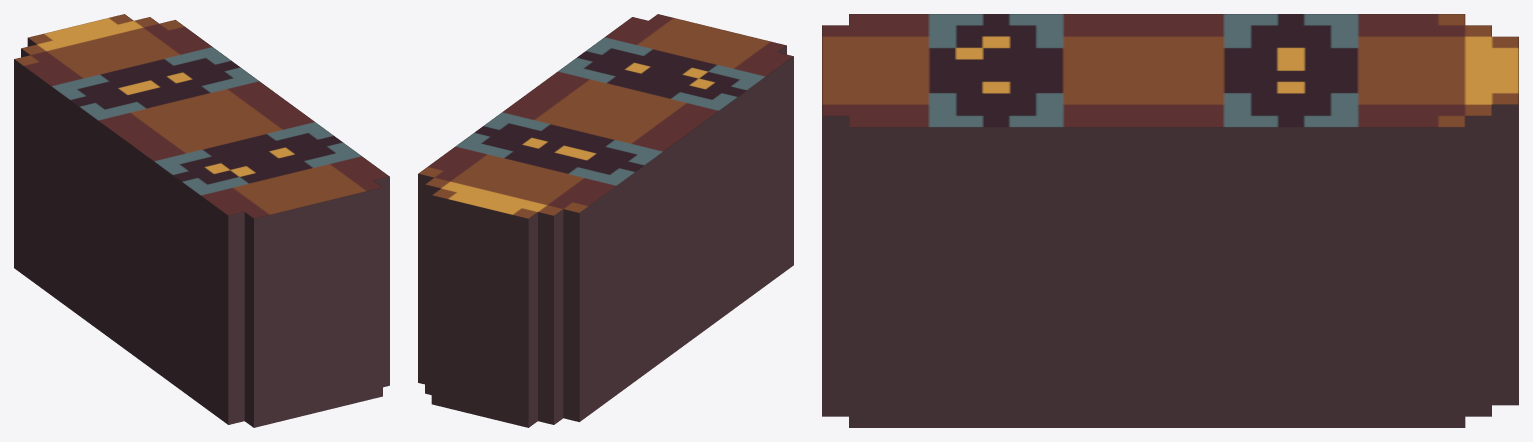
File: book1.glb
3 views of the same model, side by side, from view 1: azimuth 30°, elevation 25°; view 2: azimuth 150°, elevation 25°; view 3: azimuth 270°, elevation 25° (orthographic). The views are drawn at different scales.
Visible parts, largest first — view 1: book1-1-large; view 2: book1-1-large; view 3: book1-1-large.
Part boxes in pixels (x1=…): book1-1-large: x1=14, y1=14, x2=389, y2=427; book1-1-large: x1=418, y1=14, x2=793, y2=427; book1-1-large: x1=822, y1=14, x2=1518, y2=427.
Size of the model in its own units: 0.3125 by 0.3868 by 0.8125.
2 materials, 1 textured.
